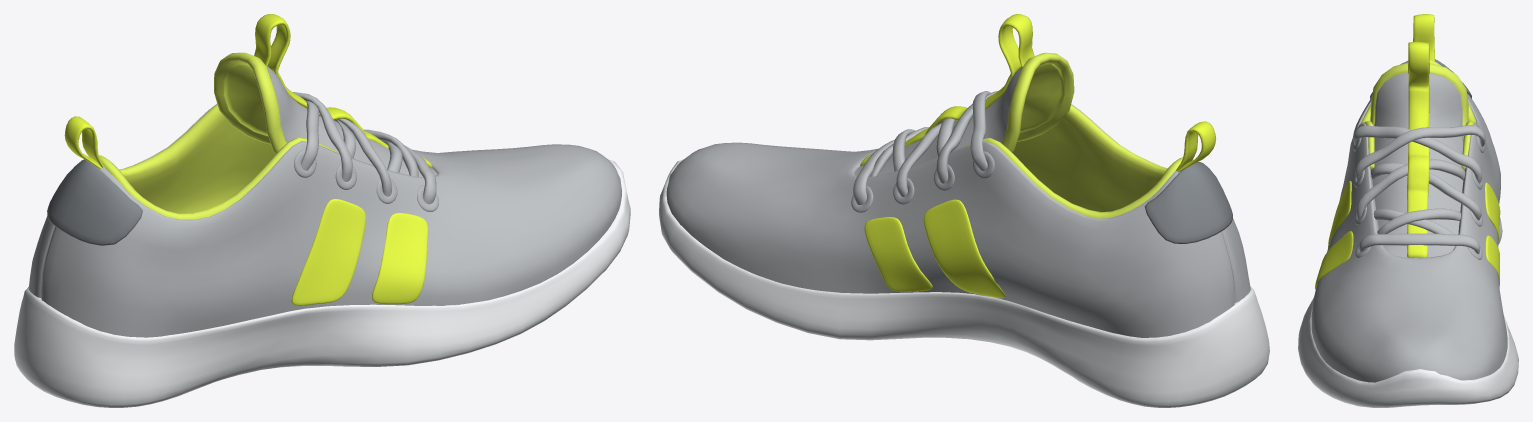
The model's file is runner-grey-volt.glb.
3 views of the same model, side by side, from view 1: azimuth 30°, elevation 25°; view 2: azimuth 150°, elevation 25°; view 3: azimuth 270°, elevation 25° (orthographic). The views are drawn at different scales.
Visible parts, largest first — view 1: Shoe; view 2: Shoe; view 3: Shoe.
Part boxes in pixels (box(x1,y1,x2,y2)): Shoe: box(14, 14, 630, 407); Shoe: box(659, 14, 1269, 407); Shoe: box(1298, 14, 1518, 407).
Size of the model in its own units: 2 by 1.03 by 0.7777.
